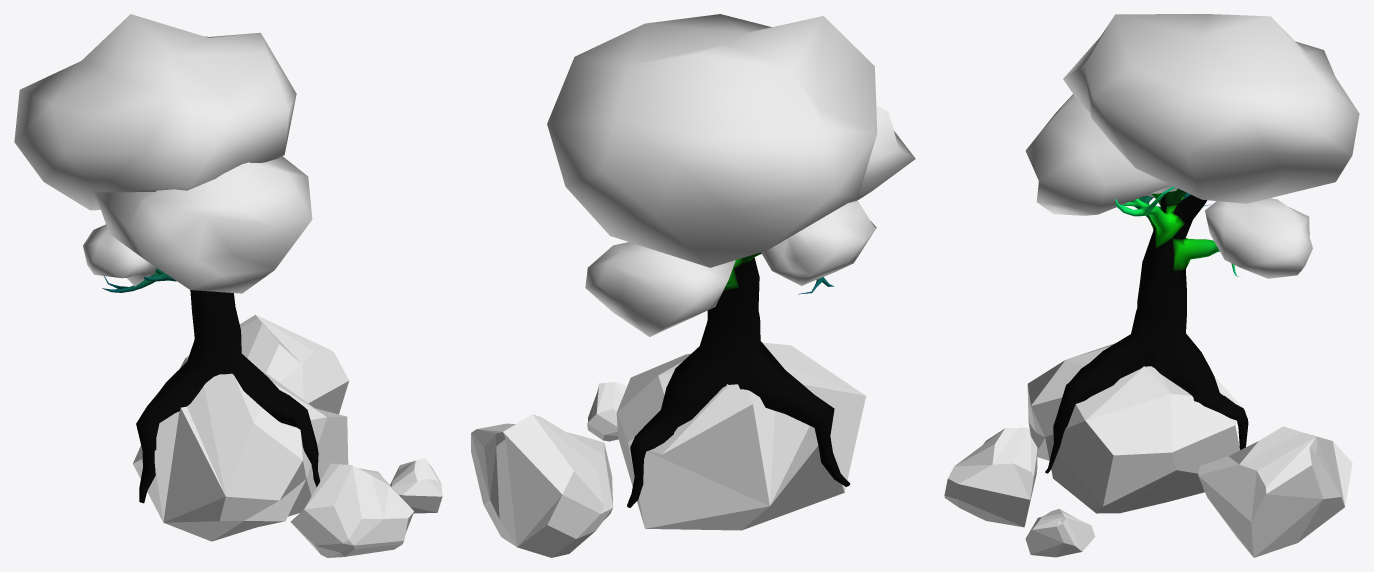
File: SM_CaveTree.fbx
The picture shows the model from 3 angles, left to right: view 1: azimuth 30°, elevation 25°; view 2: azimuth 150°, elevation 25°; view 3: azimuth 270°, elevation 25°; orthographic projection. The views are drawn at different scales.
Parts seen in each view (by area): view 1: TreeCrown, RockCollection.002, Tree; view 2: TreeCrown, RockCollection.002, Tree; view 3: TreeCrown, RockCollection.002, Tree.
Part boxes in pixels (left/top/right/bottom): TreeCrown: left=14, top=14, right=312, bottom=293; RockCollection.002: left=133, top=315, right=442, bottom=557; Tree: left=102, top=268, right=320, bottom=503; TreeCrown: left=547, top=14, right=915, bottom=336; RockCollection.002: left=471, top=342, right=865, bottom=557; Tree: left=627, top=252, right=850, bottom=507; TreeCrown: left=1025, top=14, right=1359, bottom=278; RockCollection.002: left=944, top=343, right=1352, bottom=557; Tree: left=1045, top=186, right=1248, bottom=473.
Size of the model in its own units: 850 by 1128 by 941.
